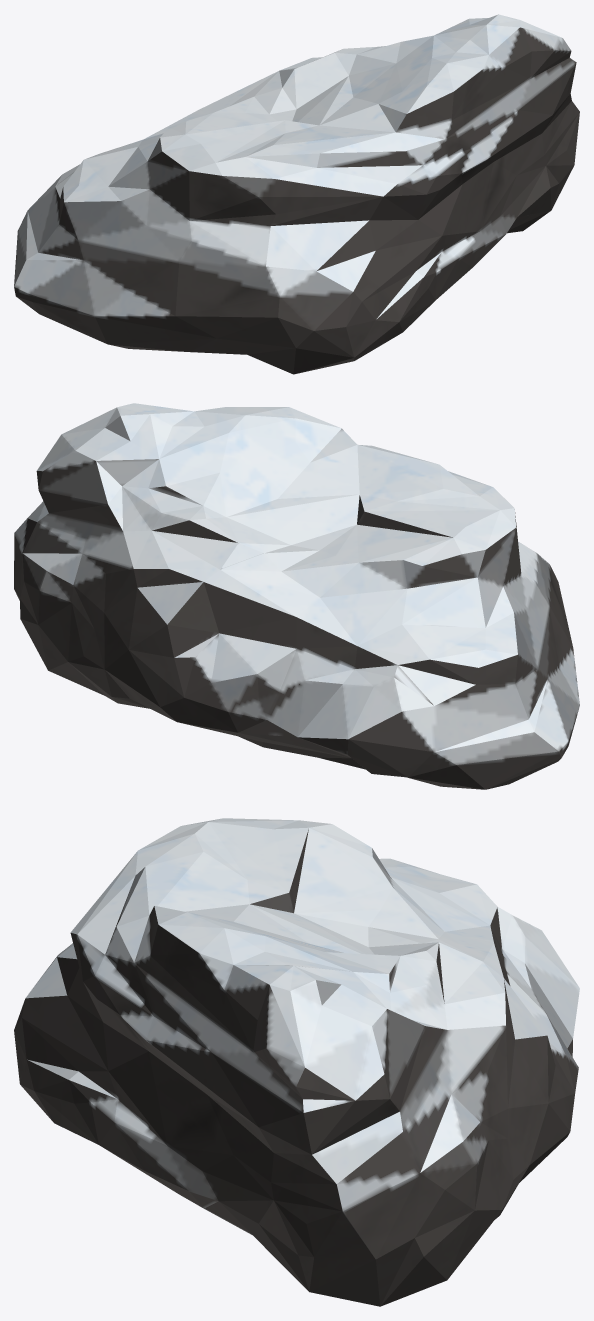
The model's file is pass_rock.gltf.
3 renders of one model, top to bottom at view 1: azimuth 30°, elevation 25°; view 2: azimuth 150°, elevation 25°; view 3: azimuth 270°, elevation 25°, orthographic. The views are drawn at different scales.
Parts seen in each view (by area): view 1: pass_rock; view 2: pass_rock; view 3: pass_rock.
Part boxes in pixels (x1,y1,x2,y2): pass_rock: (14,14,579,374); pass_rock: (14,403,579,789); pass_rock: (14,818,579,1306).
Bounding box in the file's own units: 2.86 × 1.18 × 1.92.
1 material, 1 textured.
